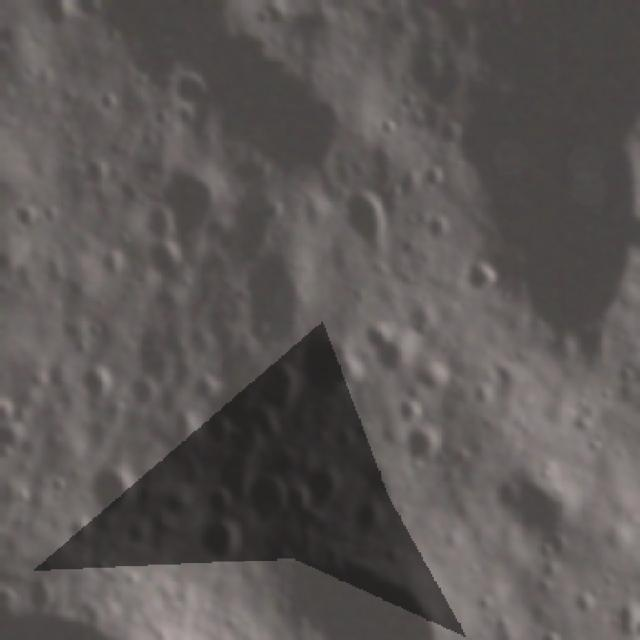crater: (275, 555, 448, 637), (499, 468, 584, 564), (233, 251, 313, 351), (158, 161, 222, 247), (289, 338, 368, 407), (228, 184, 281, 270), (78, 456, 140, 524), (337, 180, 391, 254), (356, 312, 421, 372), (124, 320, 176, 392), (249, 361, 308, 417), (191, 515, 246, 563), (134, 237, 186, 286), (242, 468, 287, 524), (69, 358, 113, 414), (301, 460, 345, 512), (402, 424, 447, 470), (168, 65, 212, 109), (69, 155, 114, 196), (196, 476, 238, 519), (458, 254, 502, 294), (419, 205, 456, 250), (385, 390, 424, 430), (196, 404, 229, 450), (168, 403, 200, 449), (414, 158, 452, 194), (372, 108, 402, 142), (91, 83, 120, 117)
